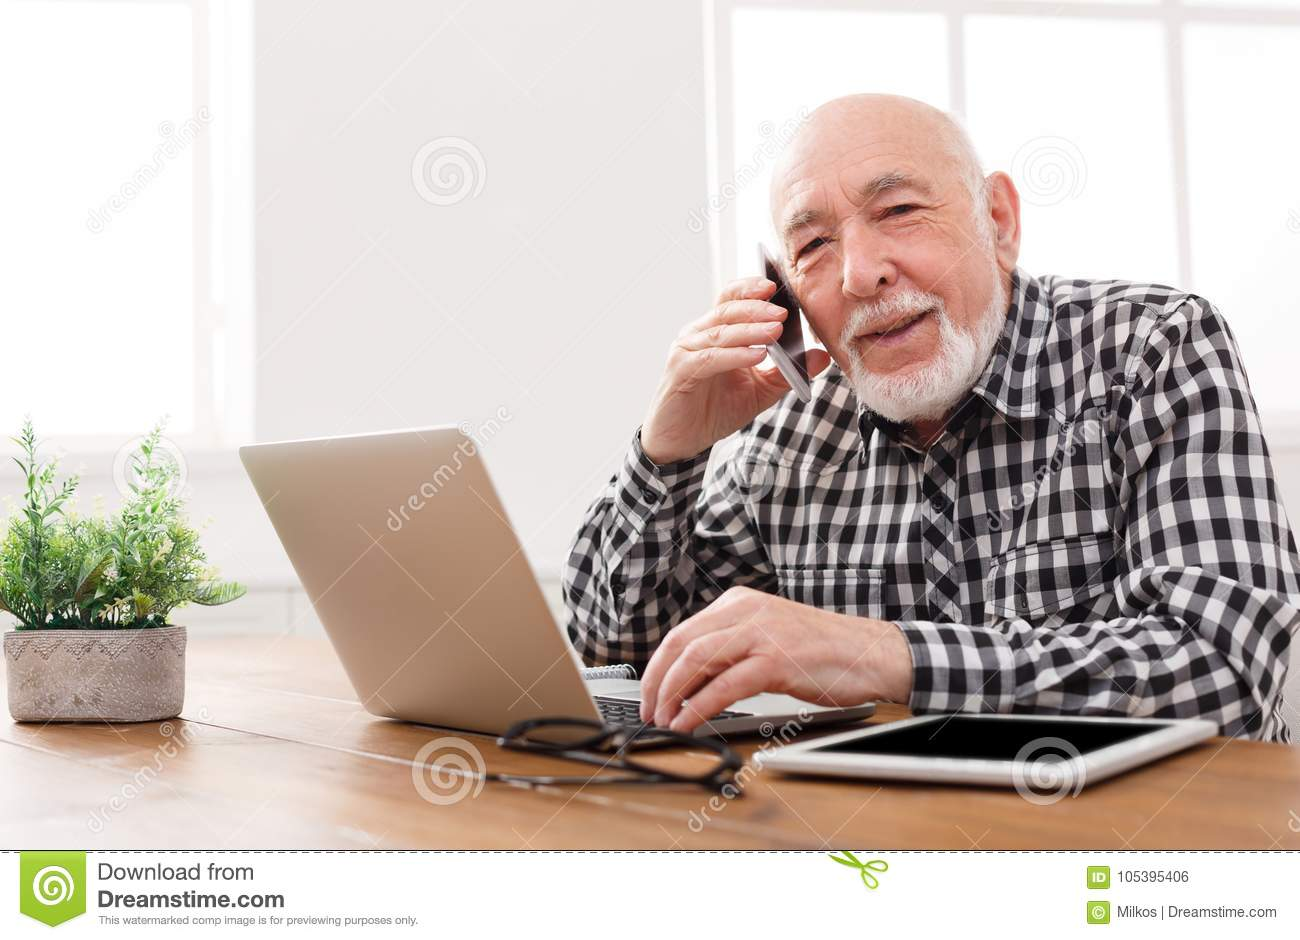phone: (750, 232, 820, 408)
talk: (648, 158, 948, 451)
